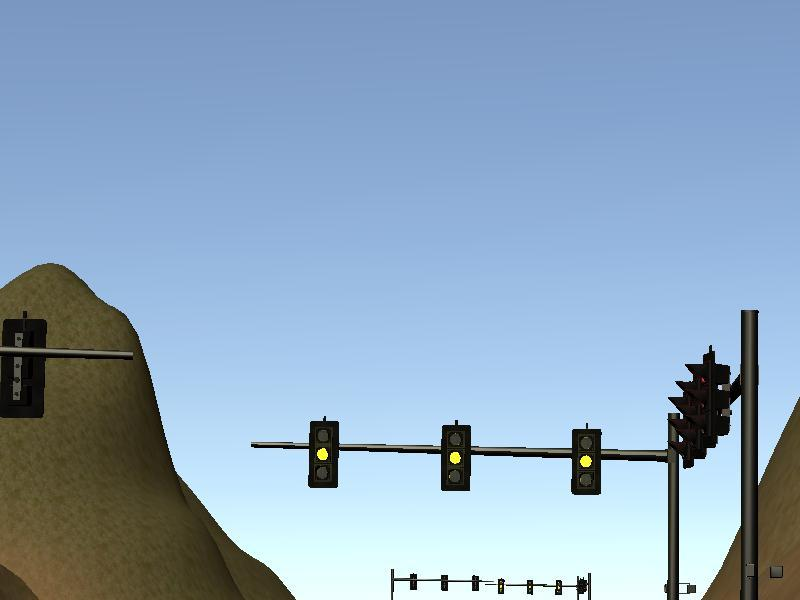Yellow: (308, 420, 338, 489), (570, 428, 600, 497), (440, 424, 470, 493)
